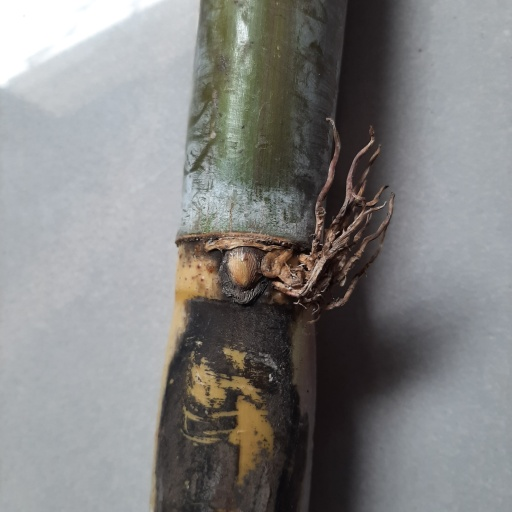Bud: (223, 247, 262, 293)
